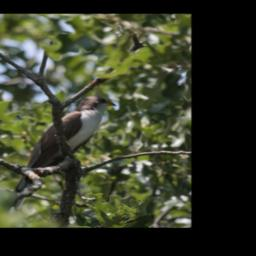Cuckoo: (1, 95, 118, 212)
